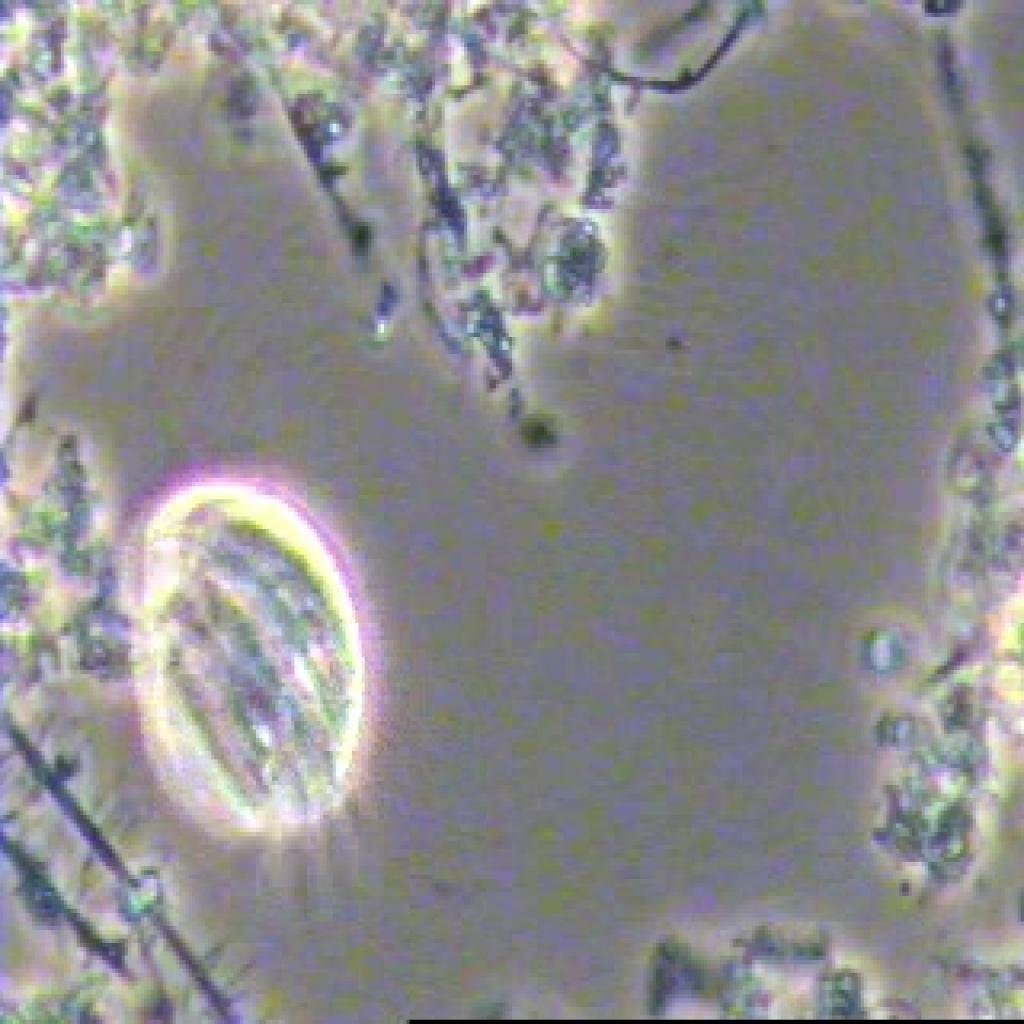Aspidisca: (107, 474, 411, 904)
